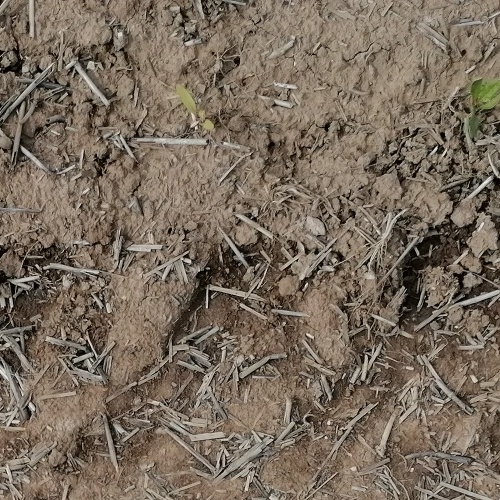beet: (173, 83, 218, 133), (465, 77, 500, 141)
